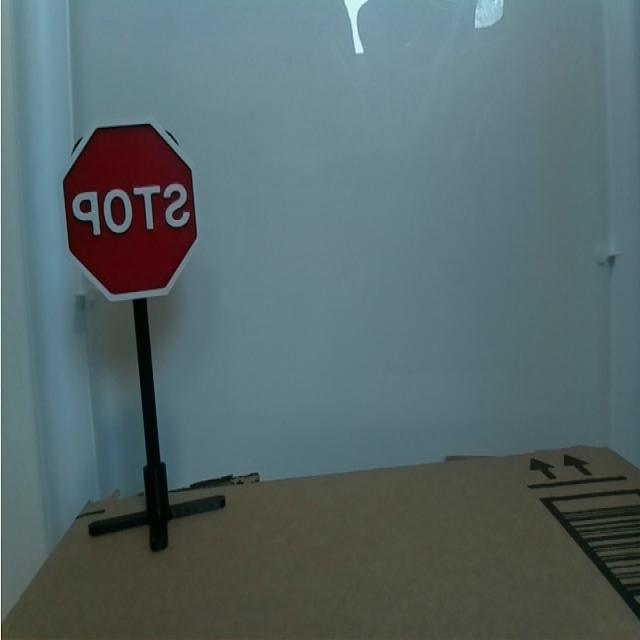sign_stop: (59, 116, 212, 310)
